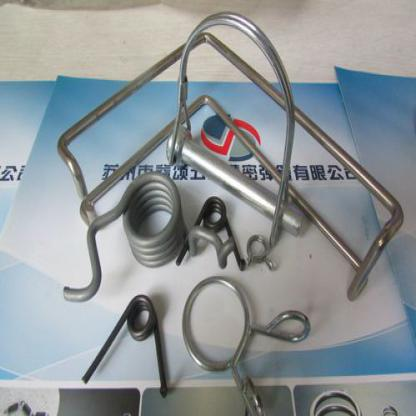FOD: (60, 169, 233, 302), (79, 292, 169, 400)
